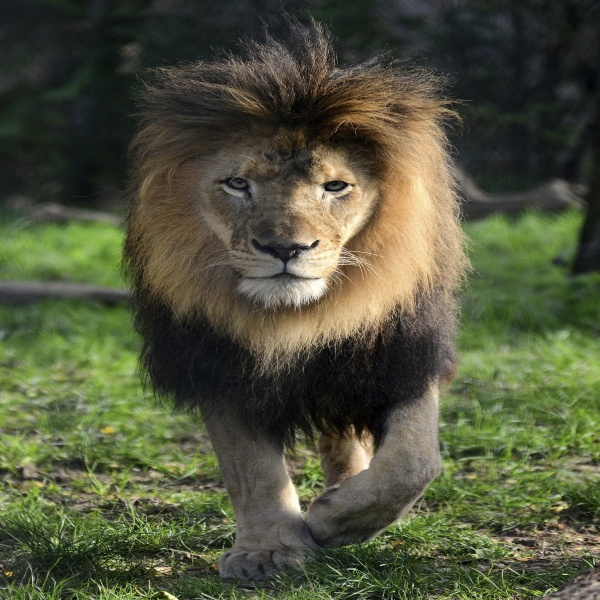Lion: (117, 31, 466, 584)
